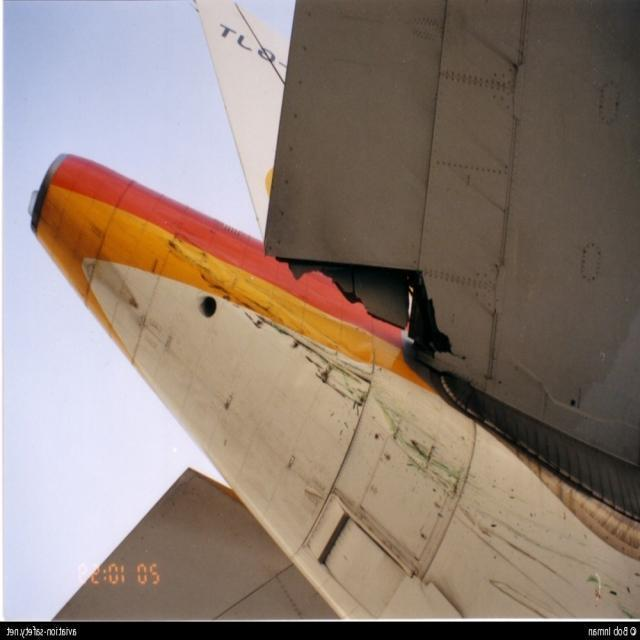crack: (271, 253, 473, 371)
